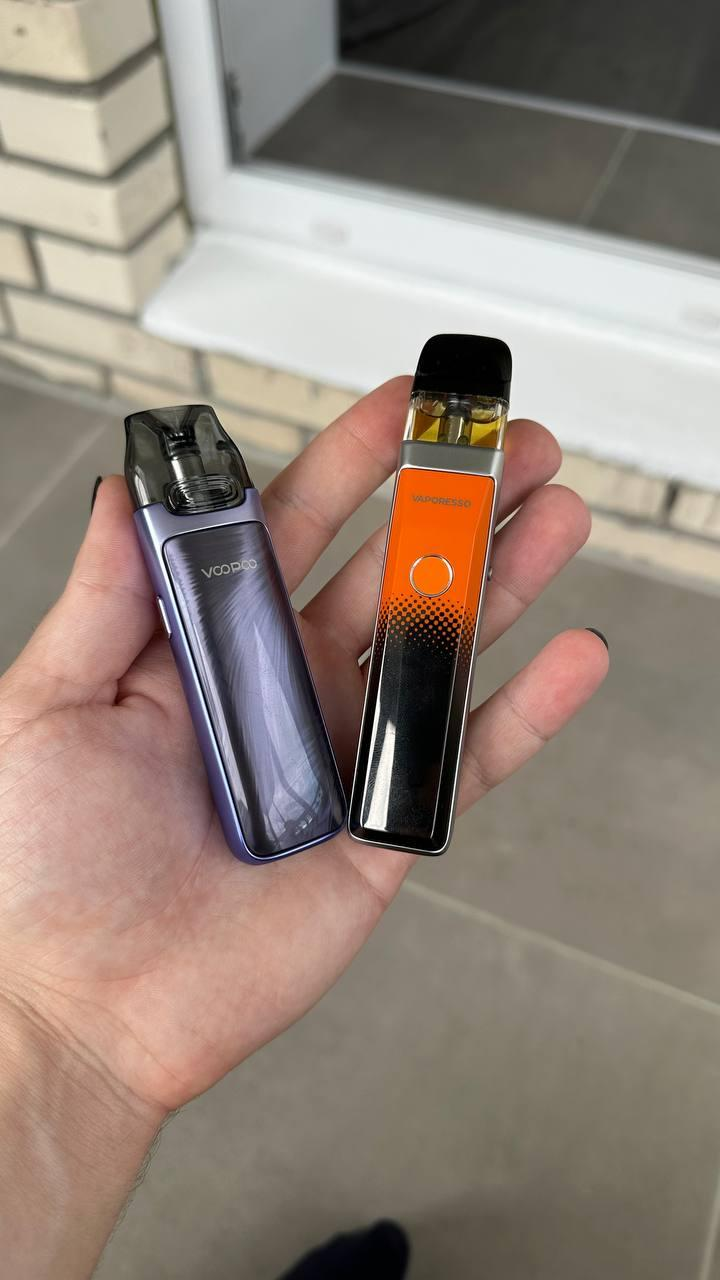Vape: (124, 404, 348, 863), (349, 335, 511, 855)
